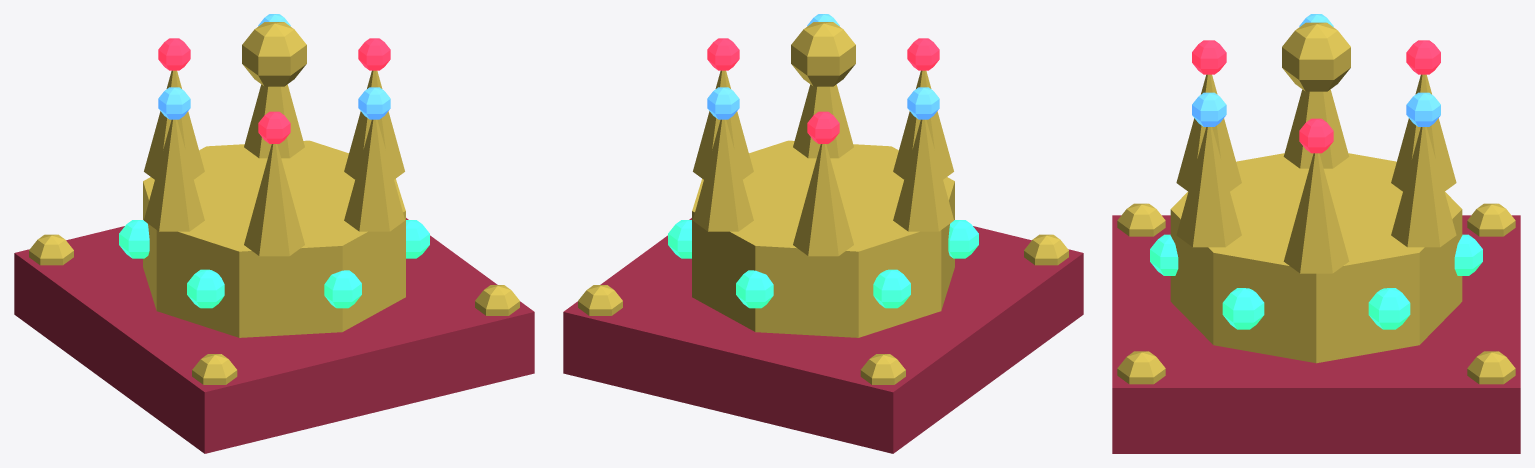
File: std_royal_crown.glb
3 views of the same model, side by side, from view 1: azimuth 30°, elevation 25°; view 2: azimuth 150°, elevation 25°; view 3: azimuth 270°, elevation 25° (orthographic). The views are drawn at different scales.
Visible parts, largest first — view 1: std_royal_crown; view 2: std_royal_crown; view 3: std_royal_crown.
Boxes of the visible parts, left/top/right/bottom form: std_royal_crown: left=14, top=14, right=534, bottom=453; std_royal_crown: left=563, top=14, right=1083, bottom=453; std_royal_crown: left=1112, top=14, right=1520, bottom=453.
Bounding box in the file's own units: 0.28 × 0.26 × 0.28.
